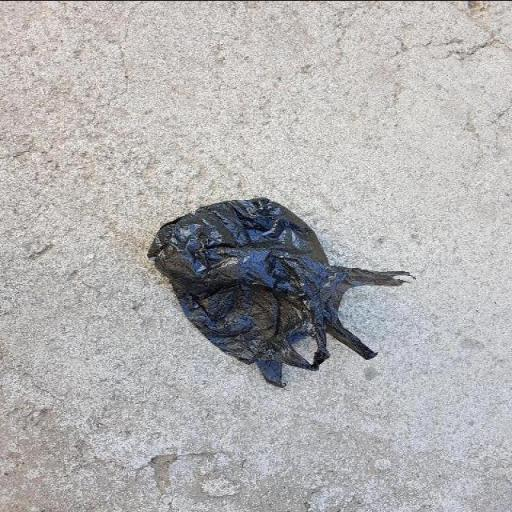plastic-bag: (144, 196, 417, 390)
